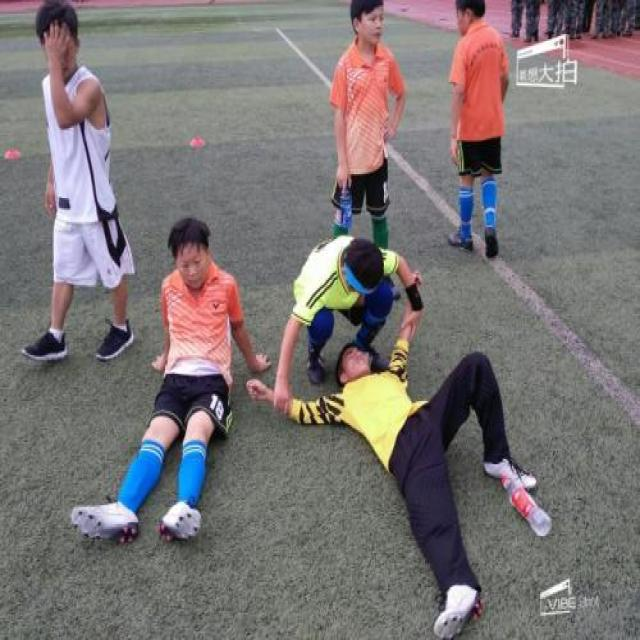fall: (274, 334, 529, 600), (132, 225, 232, 517)
